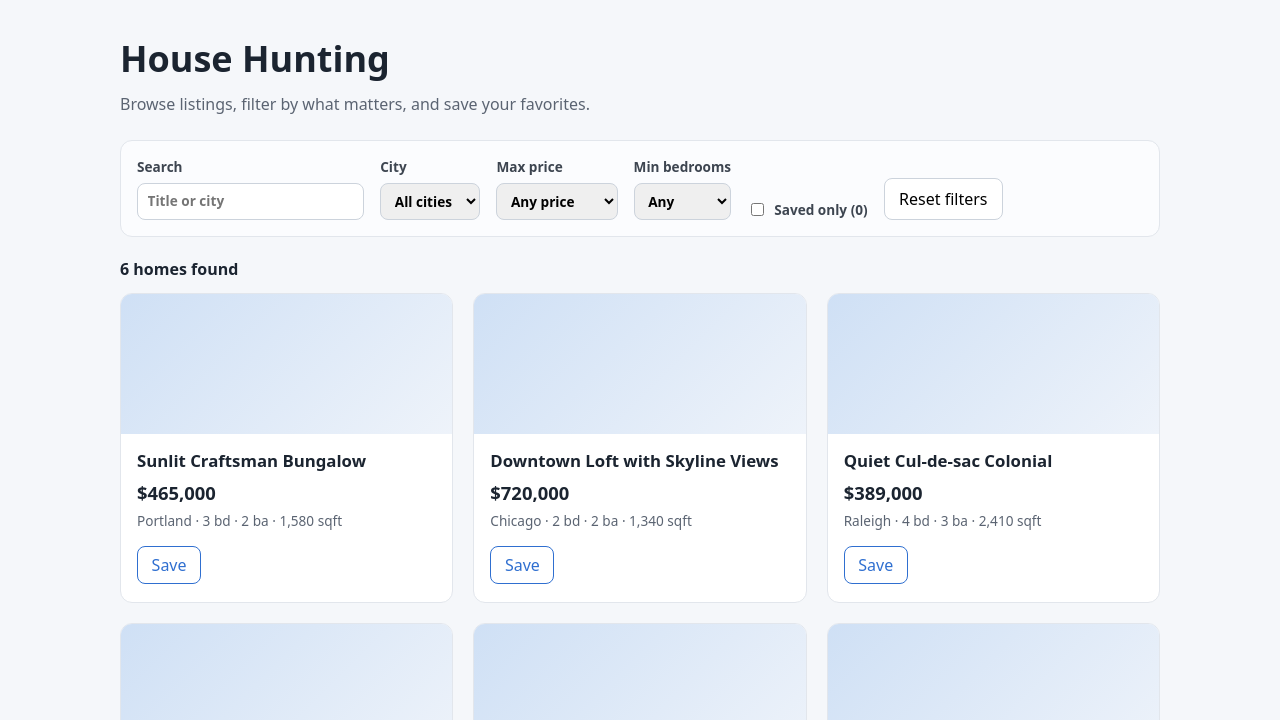
Test: App › shows an empty state when nothing matches
Type "castle" into the search field labelled "Search" at [251, 202], box [137,183,364,220]
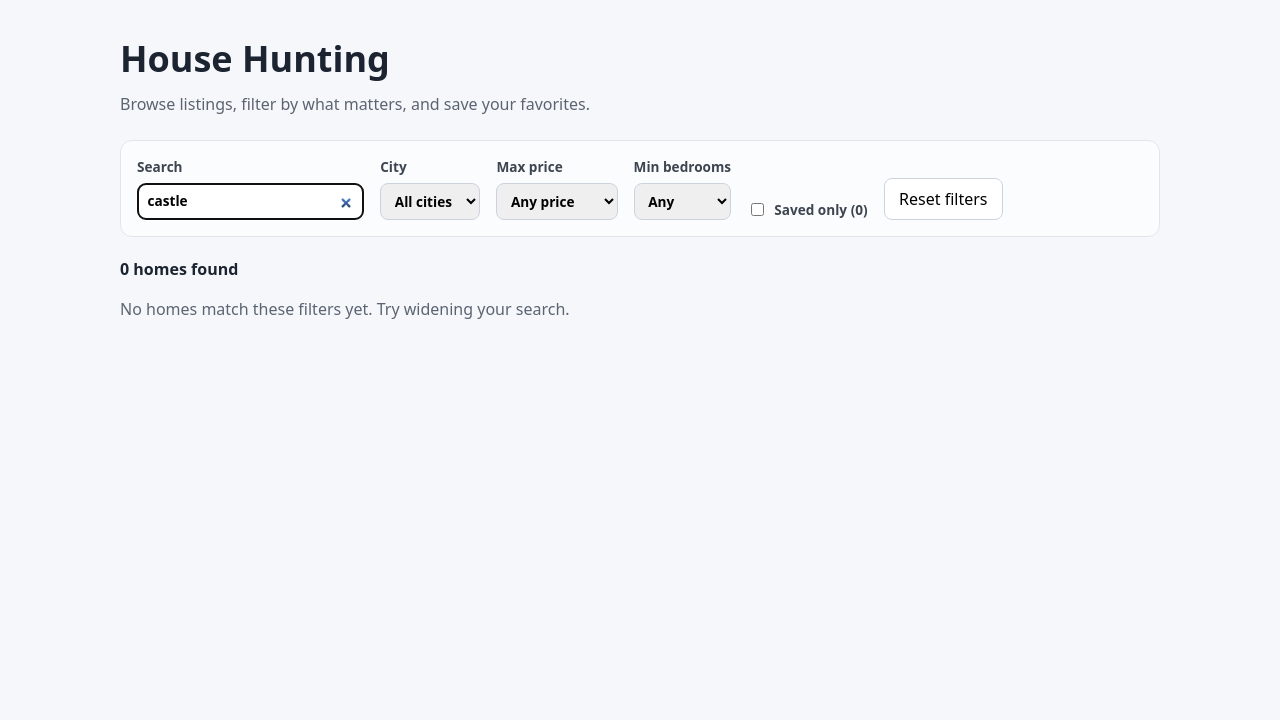
Expected: the text "No homes match these filters yet. Try widening your search." is shown, [120,298,570,320]
